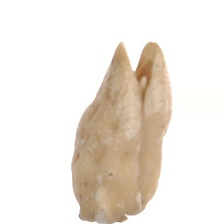L1: (116, 38, 160, 99), (75, 205, 137, 223)
L2: (71, 40, 174, 224)
